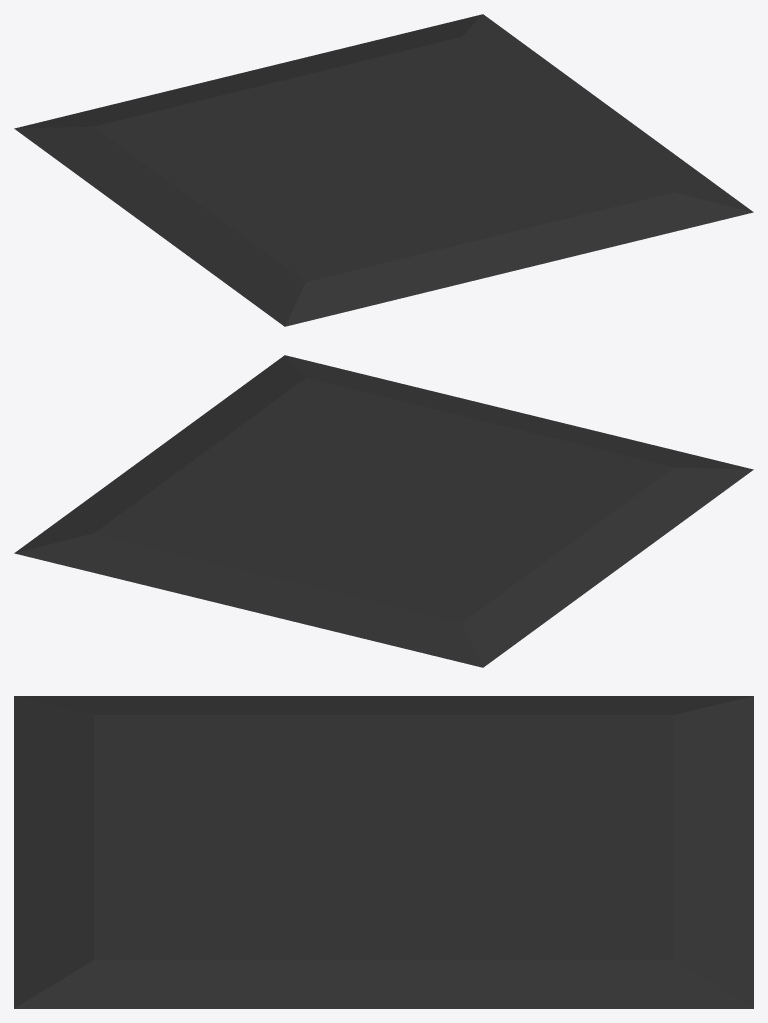
File: FinalPoint.fbx
3 views of the same model, one above another, from view 1: azimuth 30°, elevation 25°; view 2: azimuth 150°, elevation 25°; view 3: azimuth 270°, elevation 25° (orthographic). The views are drawn at different scales.
Visible parts, largest first — view 1: FinalPoint; view 2: FinalPoint; view 3: FinalPoint.
Boxes of the visible parts, bbox=[...] form: FinalPoint: bbox=[14, 14, 753, 326]; FinalPoint: bbox=[14, 355, 753, 667]; FinalPoint: bbox=[14, 696, 753, 1008].
Bounding box in the file's own units: 735 × 16.45 × 735.
Materials: 1 (1 with a texture image).
